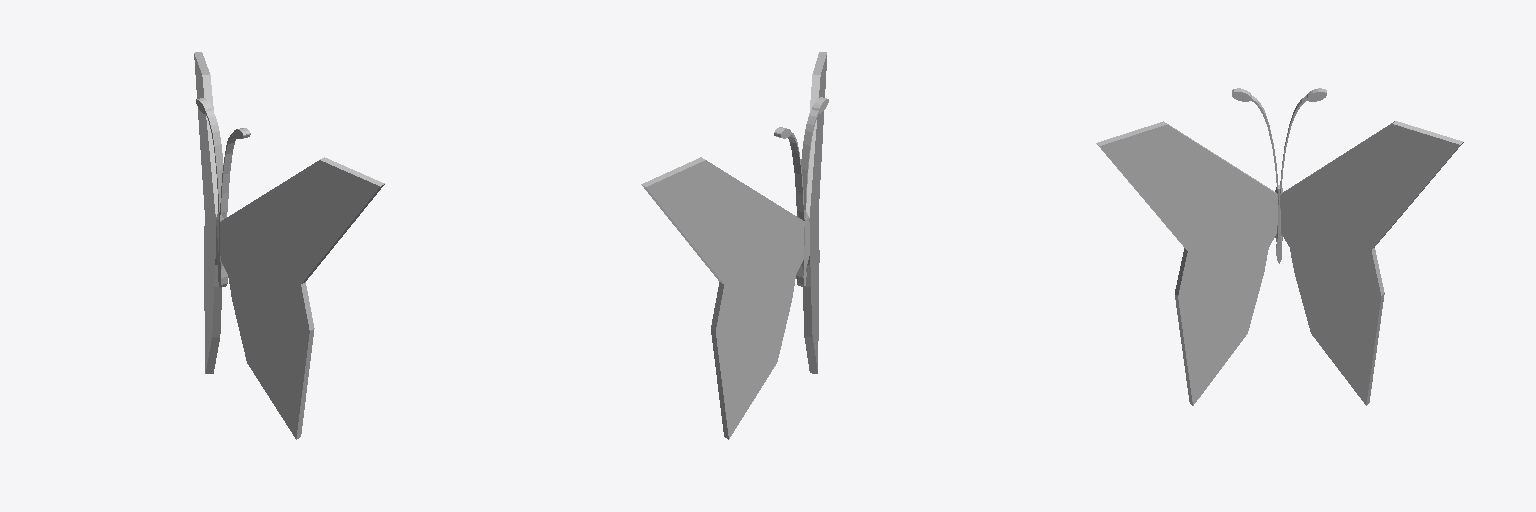
Rendered from ButterflyDown.obj.
The picture shows the model from 3 angles: view 1: azimuth 30°, elevation 25°; view 2: azimuth 150°, elevation 25°; view 3: azimuth 270°, elevation 25°; orthographic projection.
Parts seen in each view (by area): view 1: Plane.001; view 2: Plane.001; view 3: Plane.001.
Part boxes in pixels (bbox=[...]): Plane.001: bbox=[194, 52, 384, 439]; Plane.001: bbox=[641, 52, 828, 439]; Plane.001: bbox=[1096, 88, 1463, 405].
Bounding box in the file's own units: 1.13 × 4.15 × 4.62.